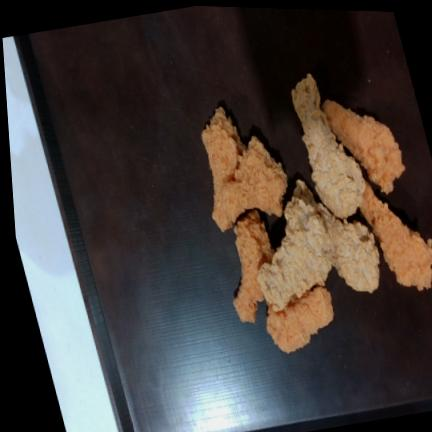chicken: (292, 73, 365, 218), (257, 180, 332, 311), (360, 181, 432, 290), (323, 100, 405, 193), (212, 137, 287, 231), (318, 204, 379, 292), (234, 210, 274, 322), (267, 287, 333, 352), (202, 107, 246, 193)
